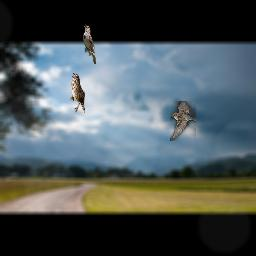Sparrow: (170, 101, 196, 141), (70, 73, 85, 113), (83, 24, 96, 64)
